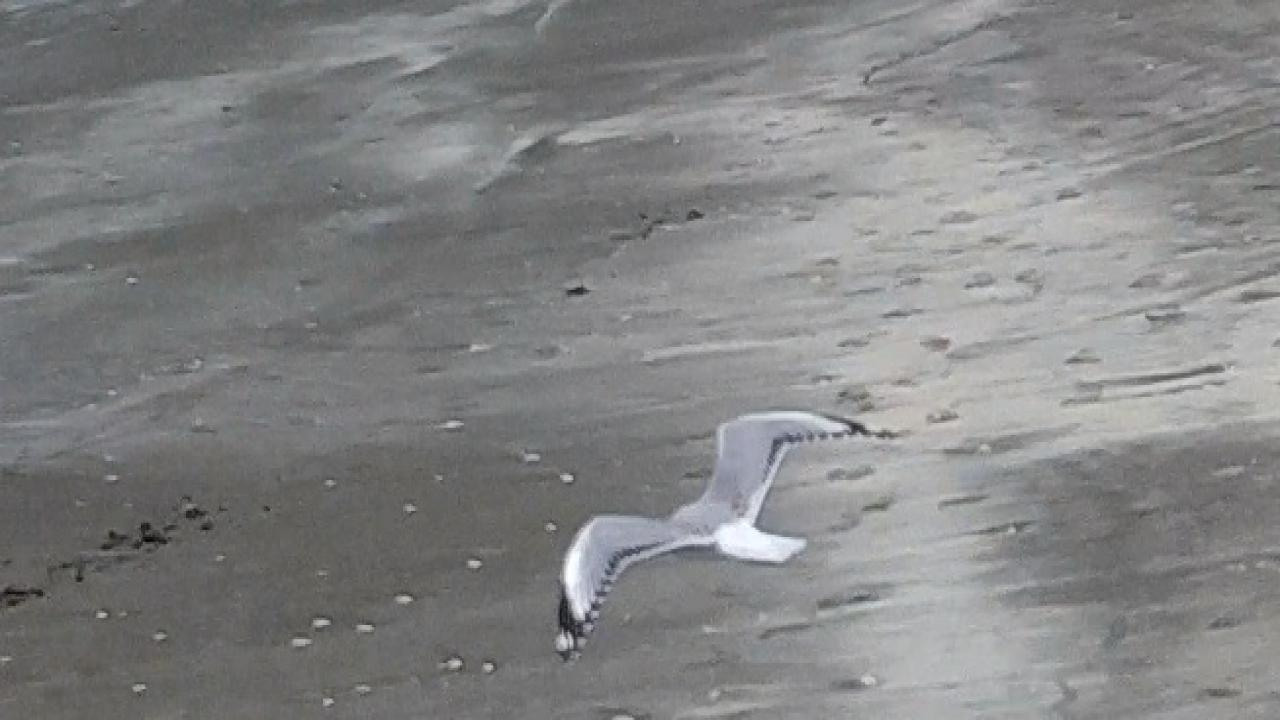Bird: (545, 397, 878, 673)
